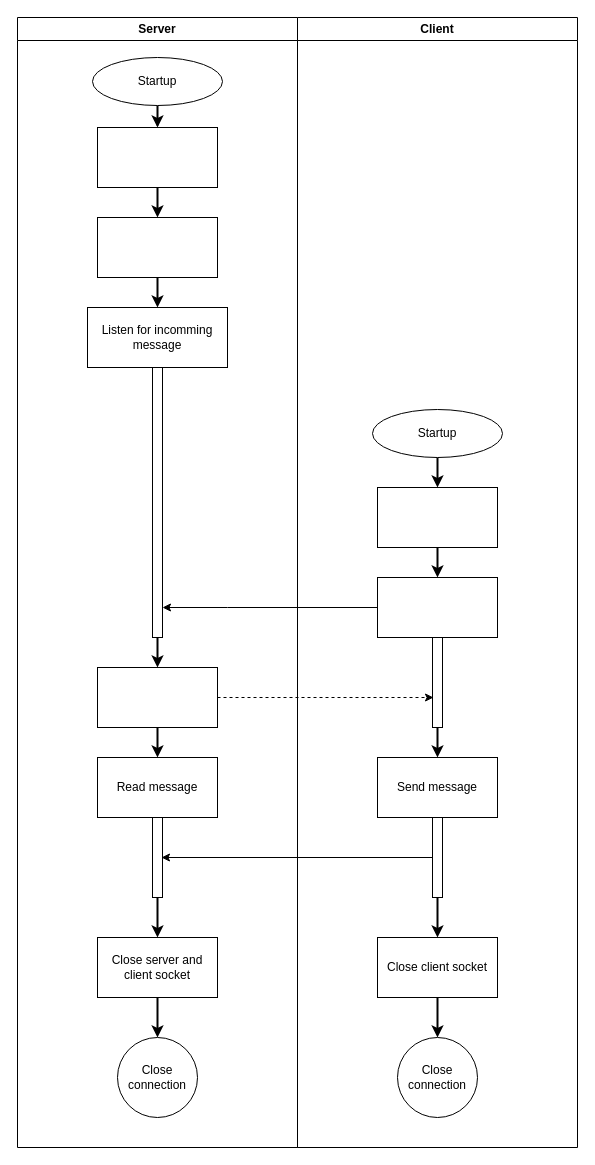
This 595x1165 diagram has some shape labels left out. The shapes that lost their labels are listed below. From the top down, each one's box as (x1, y1, x2, y2) in pixels, then its label:
(96, 126, 218, 188): Create server socket
(96, 216, 218, 278): Bind socket to server address
(376, 486, 498, 548): Create client socket
(376, 576, 498, 638): Connect to server
(96, 666, 218, 728): Accept connection
